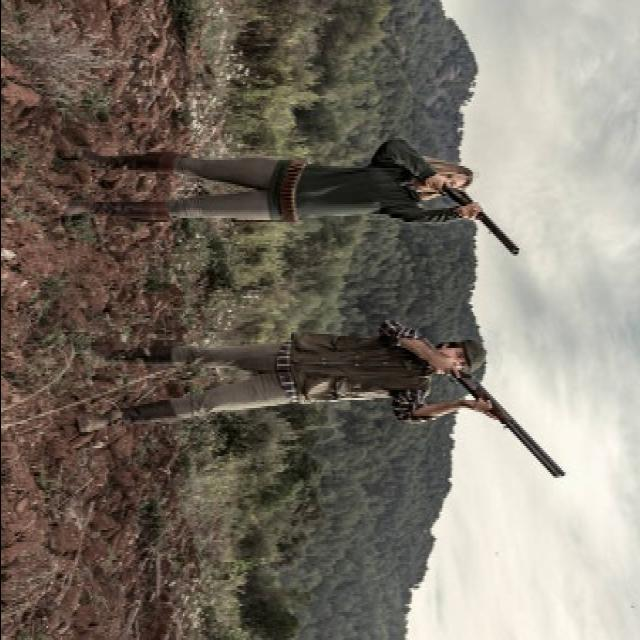rifle: (418, 337, 578, 487), (402, 163, 532, 263)
